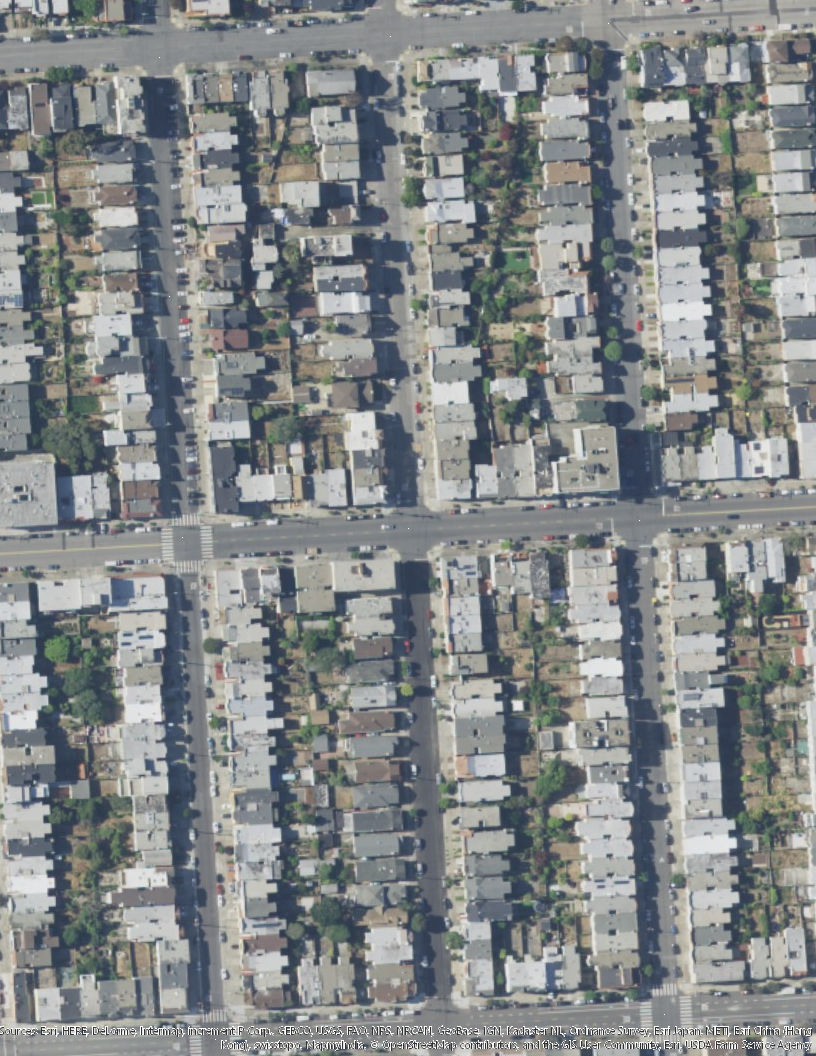zebracross: (200, 525, 213, 559), (681, 996, 693, 1030), (200, 1008, 227, 1023), (161, 529, 174, 559), (175, 559, 204, 572), (171, 513, 199, 526), (640, 1002, 653, 1029), (651, 983, 676, 997), (189, 1028, 201, 1056)
